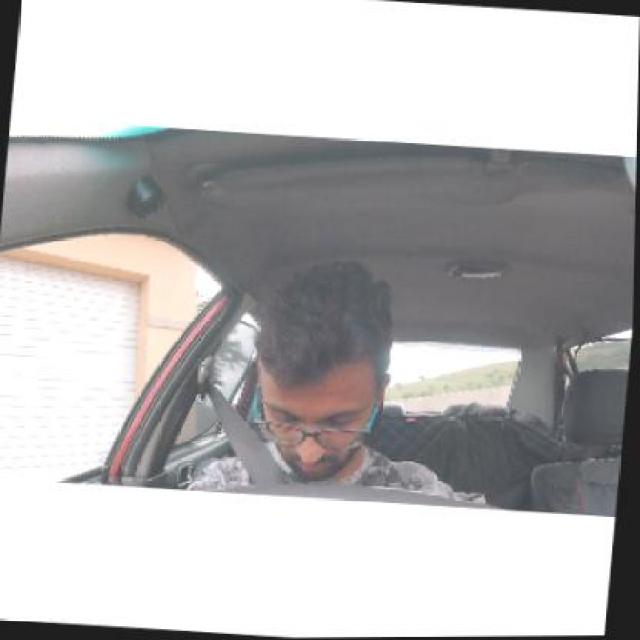drowsy: (250, 254, 402, 482)
